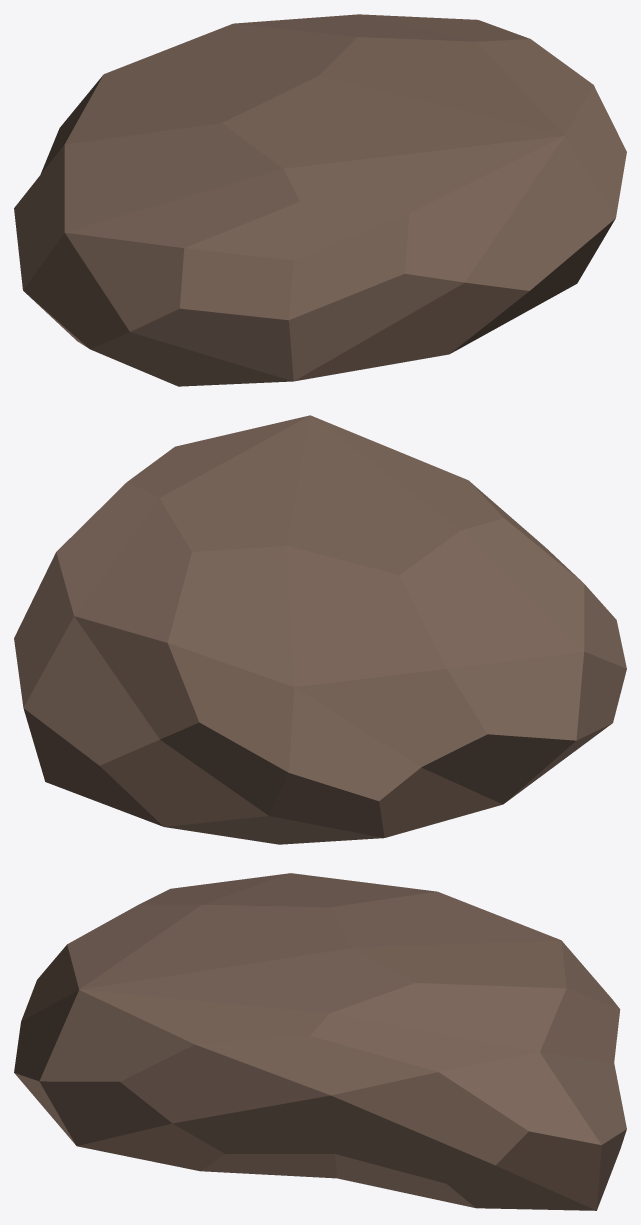
File: piedra_1.fbx
3 renders of one model, top to bottom at view 1: azimuth 30°, elevation 25°; view 2: azimuth 150°, elevation 25°; view 3: azimuth 270°, elevation 25°, orthographic. The views are drawn at different scales.
Parts seen in each view (by area): view 1: piedra_1; view 2: piedra_1; view 3: piedra_1.
Boxes of the visible parts, bbox=[...] form: piedra_1: bbox=[14, 14, 626, 386]; piedra_1: bbox=[14, 415, 626, 844]; piedra_1: bbox=[14, 873, 626, 1210].
Bounding box in the file's own units: 46.26 × 19.94 × 46.5.
